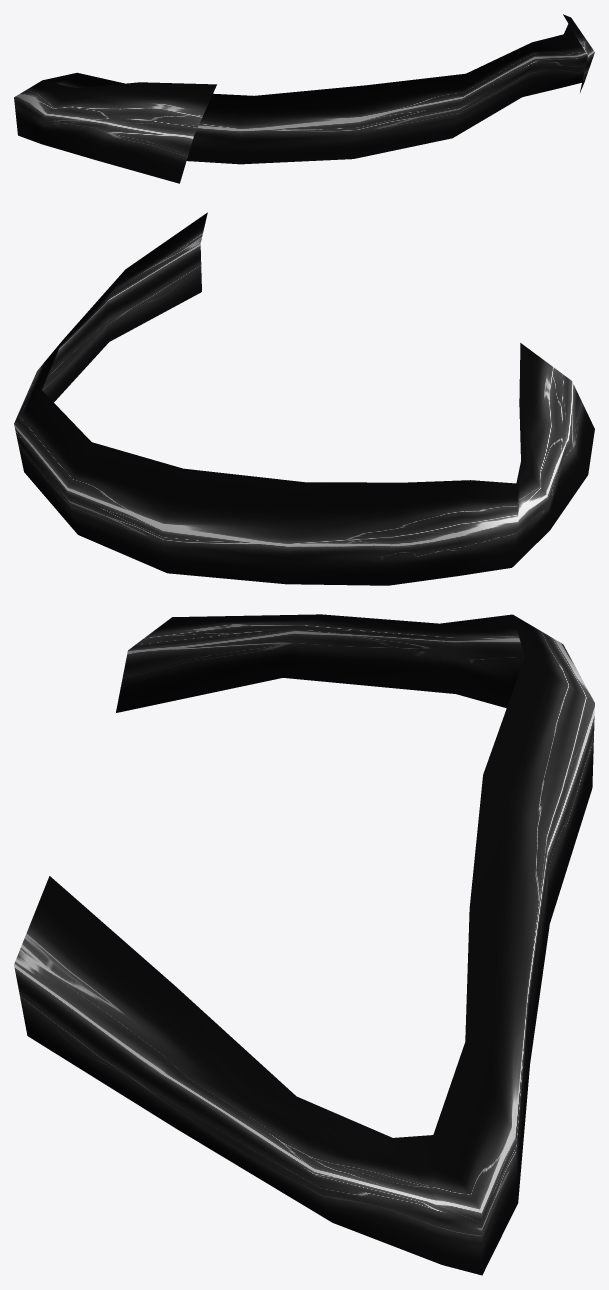
The model's file is VertexPaintedLightningVFXMesh.fbx.
The picture shows the model from 3 angles, top to bottom: view 1: azimuth 30°, elevation 25°; view 2: azimuth 150°, elevation 25°; view 3: azimuth 270°, elevation 25°; orthographic projection. The views are drawn at different scales.
Visible parts, largest first — view 1: VertexPaintedLightningVFXMesh; view 2: VertexPaintedLightningVFXMesh; view 3: VertexPaintedLightningVFXMesh.
Boxes of the visible parts, x1,y1,x2,y2 form: VertexPaintedLightningVFXMesh: (14, 14, 594, 183); VertexPaintedLightningVFXMesh: (14, 212, 594, 585); VertexPaintedLightningVFXMesh: (14, 614, 594, 1275).
Bounding box in the file's own units: 157 × 64.08 × 82.75.
